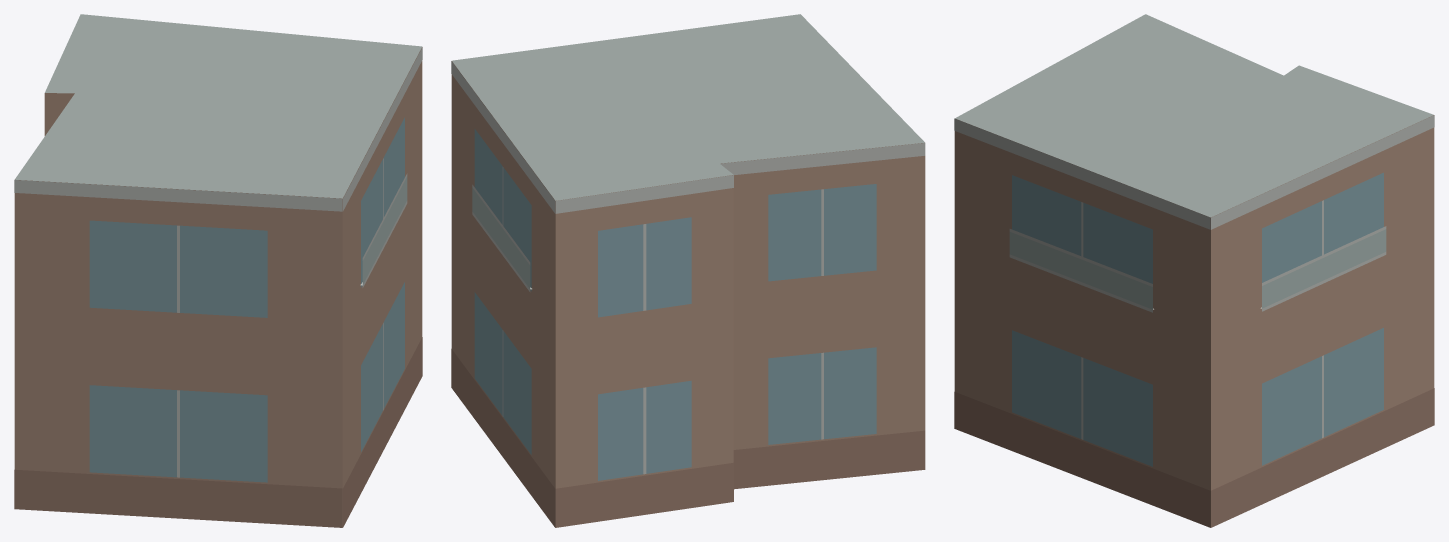
The model's file is survey-upis-32489256.glb.
3 views of the same model, side by side, from view 1: azimuth 30°, elevation 25°; view 2: azimuth 150°, elevation 25°; view 3: azimuth 270°, elevation 25° (orthographic). The views are drawn at different scales.
Parts seen in each view (by area): view 1: survey-upis-32489256.tmp; view 2: survey-upis-32489256.tmp; view 3: survey-upis-32489256.tmp.
Boxes of the visible parts, x1=… form: survey-upis-32489256.tmp: x1=14, y1=14, x2=422, y2=527; survey-upis-32489256.tmp: x1=451, y1=14, x2=925, y2=527; survey-upis-32489256.tmp: x1=954, y1=14, x2=1434, y2=527.
Bounding box in the file's own units: 8.59 × 6.1 × 8.55.
